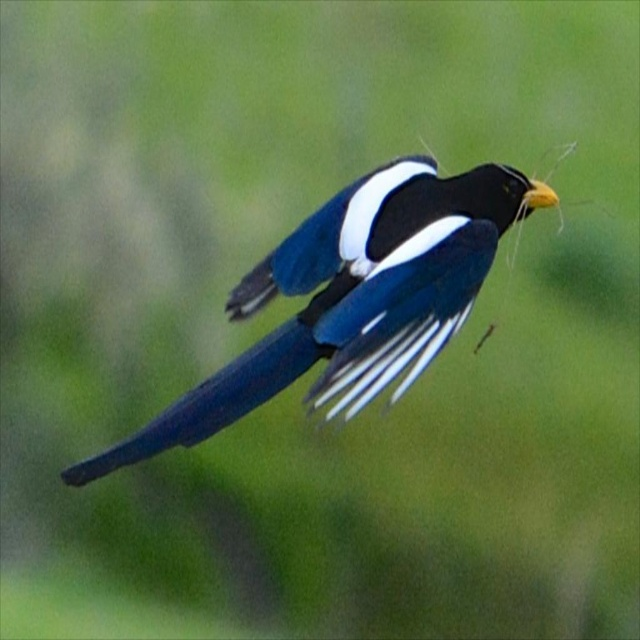Magpie: (59, 152, 561, 488)
